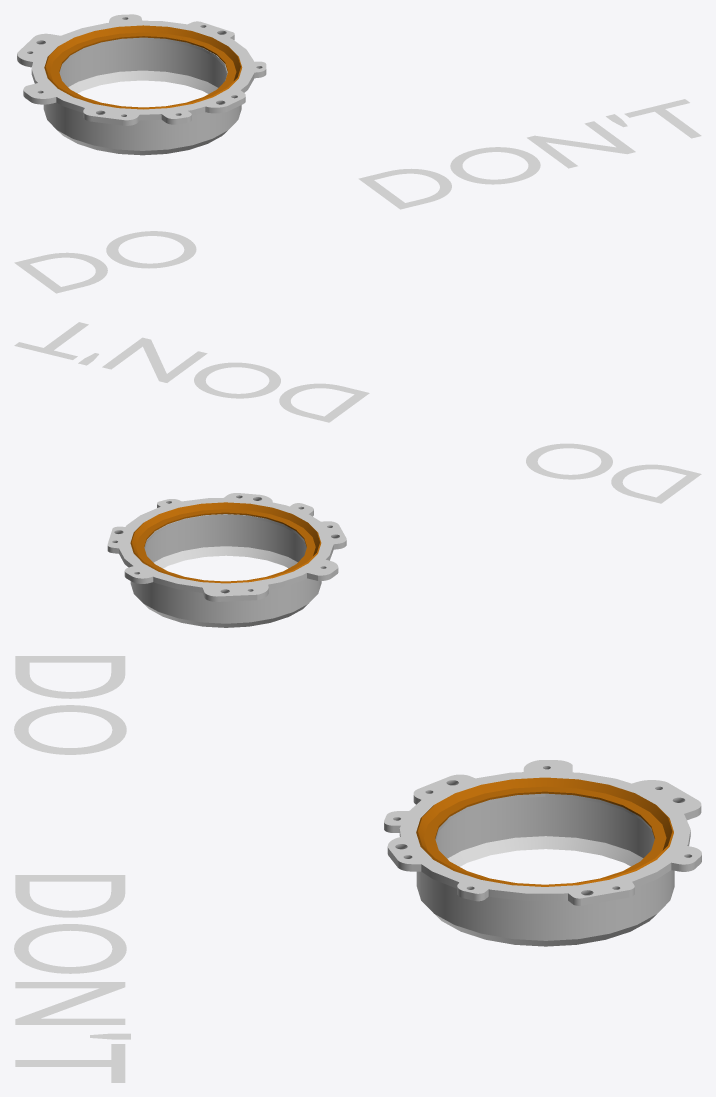
The model's file is Bearing Protective.fbx.
3 renders of one model, top to bottom at view 1: azimuth 30°, elevation 25°; view 2: azimuth 150°, elevation 25°; view 3: azimuth 270°, elevation 25°, orthographic. The views are drawn at different scales.
Visible parts, largest first — view 1: Bearing Liner, Text.003, pROTECTIVE lAYER, Text.002; view 2: Bearing Liner, Text.003, pROTECTIVE lAYER, Text.002; view 3: Bearing Liner, Text.003, pROTECTIVE lAYER, Text.002.
Part boxes in pixels (x1,y1,x2,y2): Bearing Liner: (17,14,266,155); Text.003: (358,99,701,209); pROTECTIVE lAYER: (44,25,242,109); Text.002: (14,231,196,293); Bearing Liner: (107,493,346,627); Text.003: (14,322,369,422); pROTECTIVE lAYER: (130,502,321,583); Text.002: (526,443,701,503); Bearing Liner: (384,760,701,946); Text.003: (14,875,130,1082); pROTECTIVE lAYER: (416,777,673,886); Text.002: (14,656,126,754).
Size of the model in its own units: 627 by 44.38 by 427.
